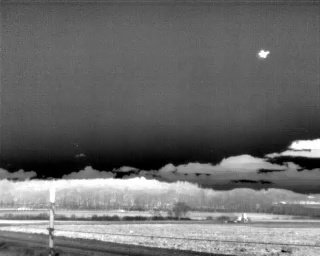DRONE: (255, 46, 273, 63)
